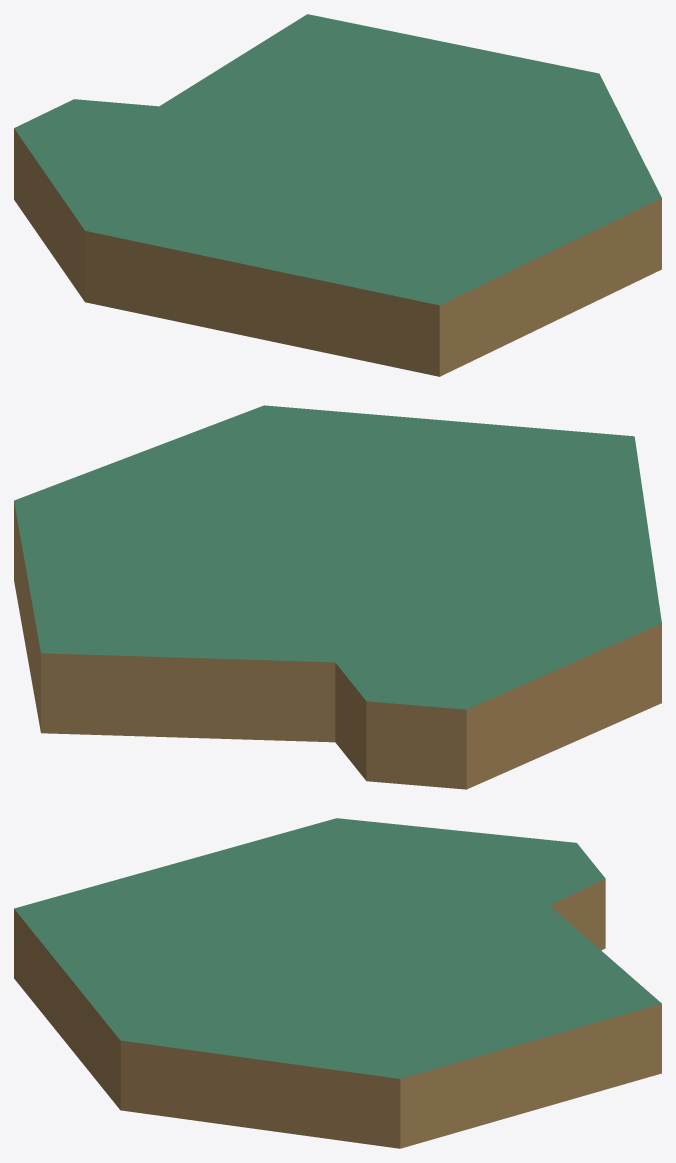
The model's file is Rock_Small_Mesa_Eroded_Moss_Grass_Shard_01.FBX.
The picture shows the model from 3 angles, top to bottom: view 1: azimuth 30°, elevation 25°; view 2: azimuth 150°, elevation 25°; view 3: azimuth 270°, elevation 25°; orthographic projection. The views are drawn at different scales.
Parts seen in each view (by area): view 1: Rock_Small_Mesa_Eroded_Moss_Grass_Shard_01; view 2: Rock_Small_Mesa_Eroded_Moss_Grass_Shard_01; view 3: Rock_Small_Mesa_Eroded_Moss_Grass_Shard_01.
Part boxes in pixels (x1,y1,x2,y2): Rock_Small_Mesa_Eroded_Moss_Grass_Shard_01: (14,14,661,376); Rock_Small_Mesa_Eroded_Moss_Grass_Shard_01: (14,405,661,789); Rock_Small_Mesa_Eroded_Moss_Grass_Shard_01: (14,818,661,1148).
Size of the model in its own units: 1725 by 215 by 1812.
